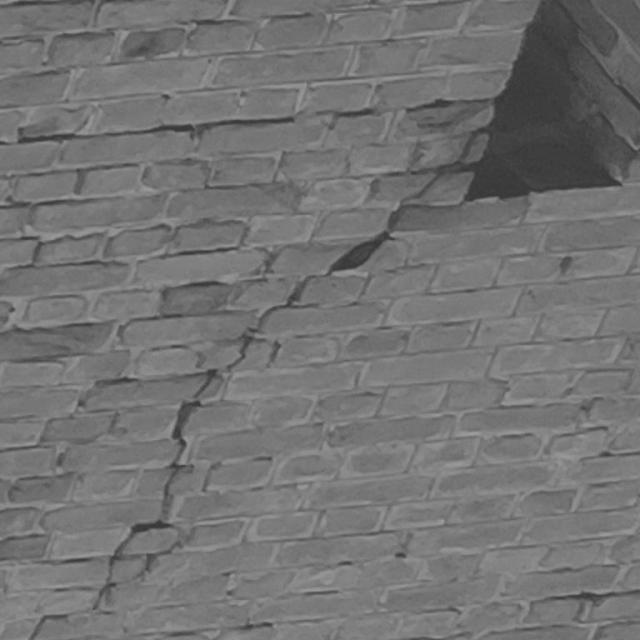crack: (30, 121, 492, 640), (1, 96, 497, 148)
